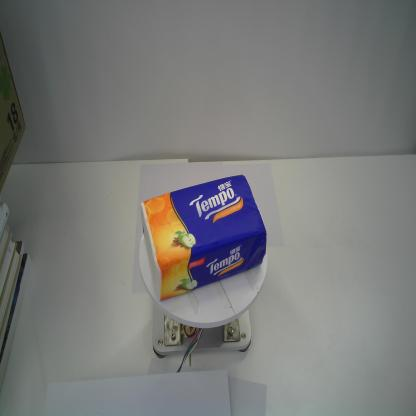Tissue: (139, 173, 268, 303)
